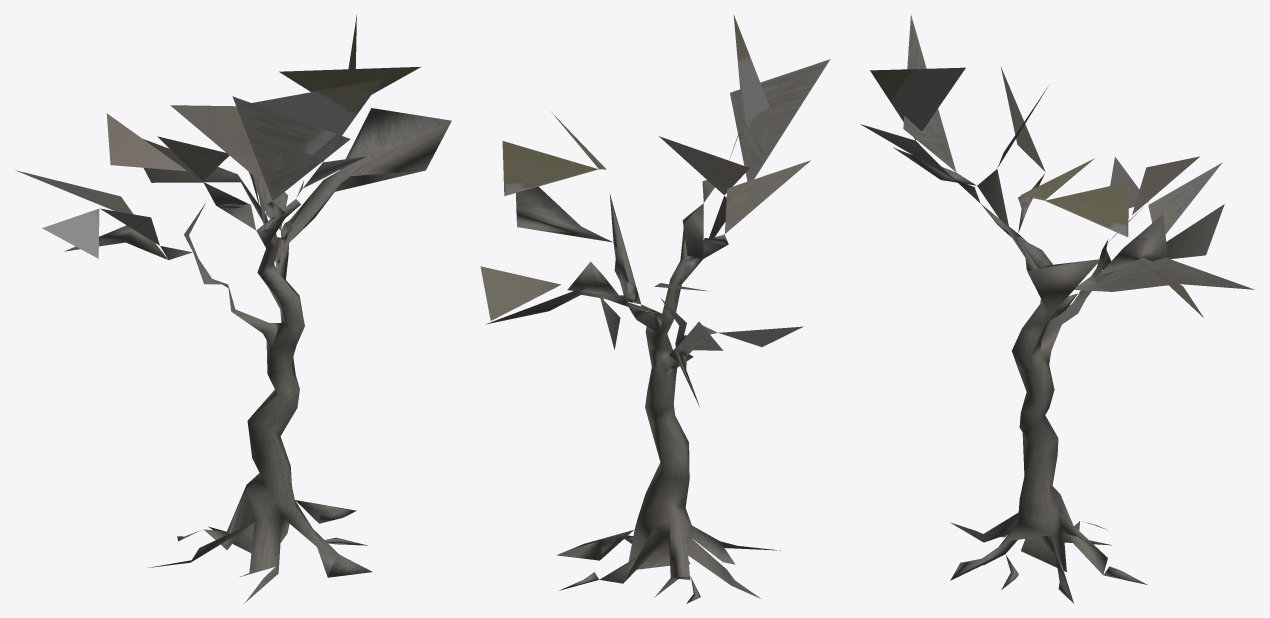
The model's file is world-deadtree.glb.
The picture shows the model from 3 angles, left to right: view 1: azimuth 30°, elevation 25°; view 2: azimuth 150°, elevation 25°; view 3: azimuth 270°, elevation 25°; orthographic projection. The views are drawn at different scales.
Bounding box in the file's own units: 2.84 × 4 × 2.89.
Materials: 1 (1 with a texture image).
